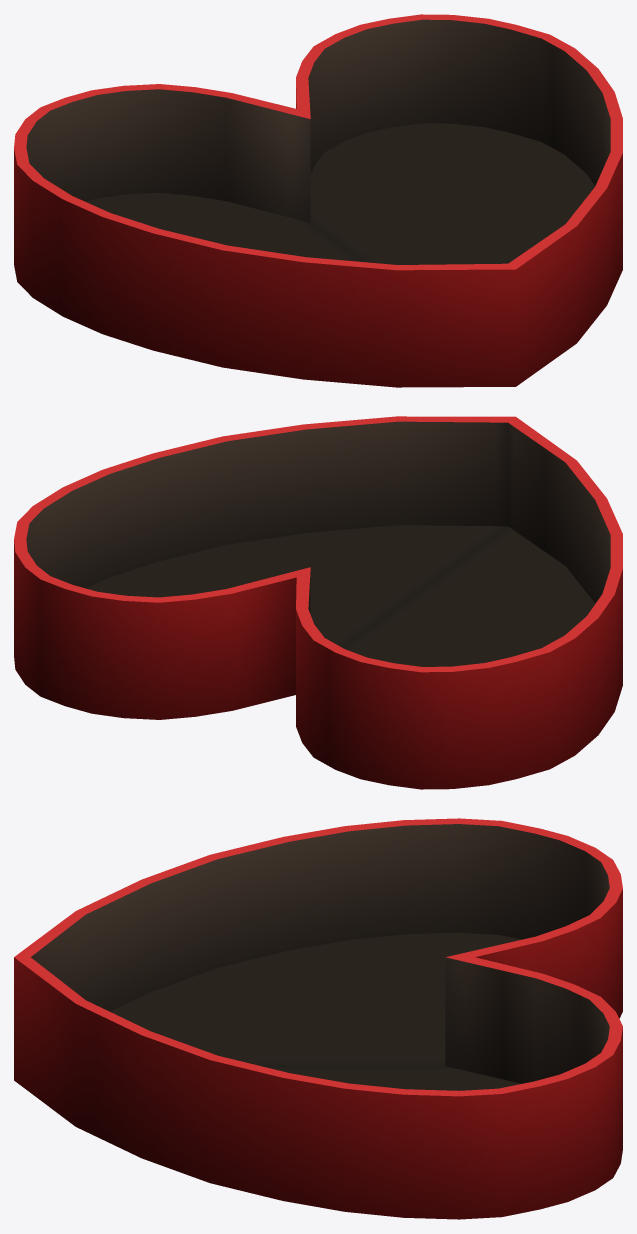
The model's file is part_Box_Bottom.fbx.
3 renders of one model, top to bottom at view 1: azimuth 30°, elevation 25°; view 2: azimuth 150°, elevation 25°; view 3: azimuth 270°, elevation 25°, orthographic. The views are drawn at different scales.
Visible parts, largest first — view 1: sm_ChocoBox_Bottom; view 2: sm_ChocoBox_Bottom; view 3: sm_ChocoBox_Bottom.
Part boxes in pixels (left/top/right/bottom): sm_ChocoBox_Bottom: left=14, top=14, right=622, bottom=387; sm_ChocoBox_Bottom: left=14, top=416, right=622, bottom=789; sm_ChocoBox_Bottom: left=14, top=818, right=622, bottom=1219.
Bounding box in the file's own units: 44.06 × 9.12 × 40.8.
